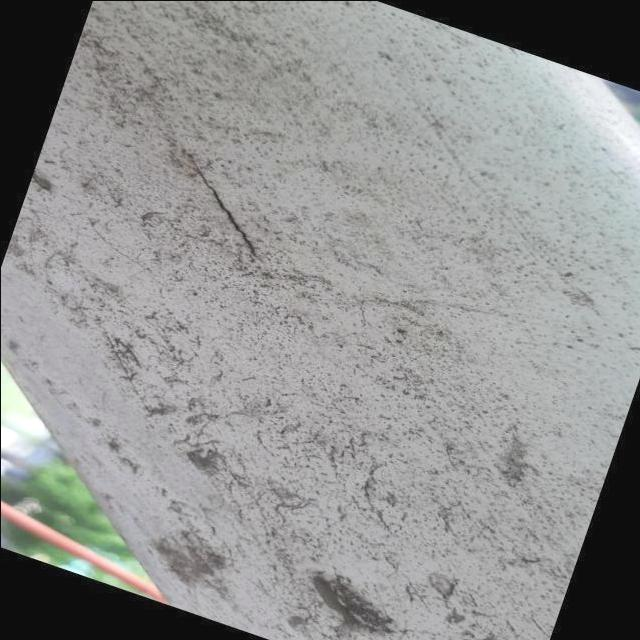defect: (186, 151, 268, 269)
